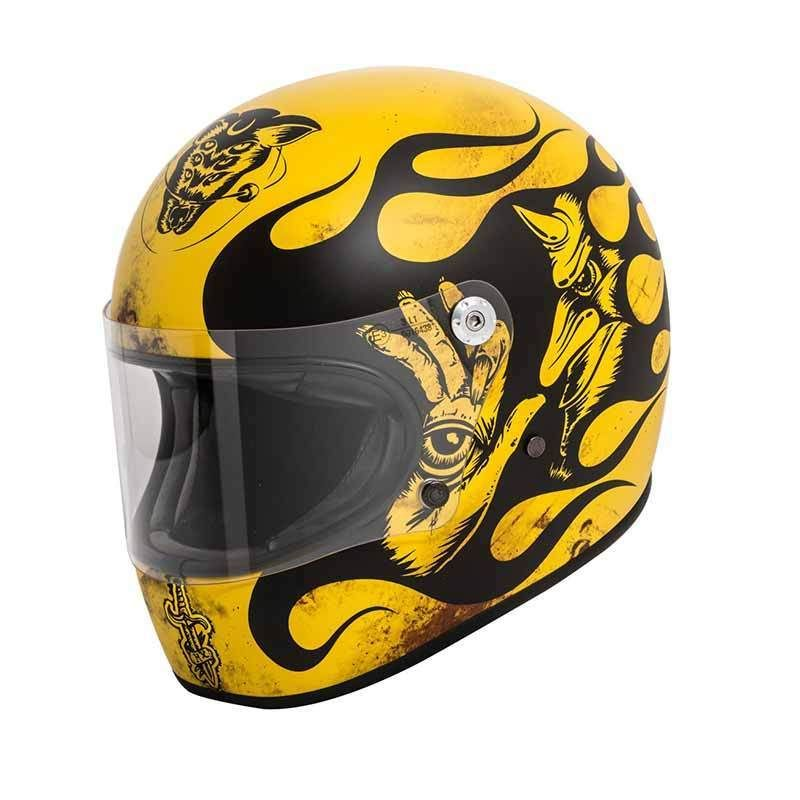with_helmet: (106, 65, 671, 704)
